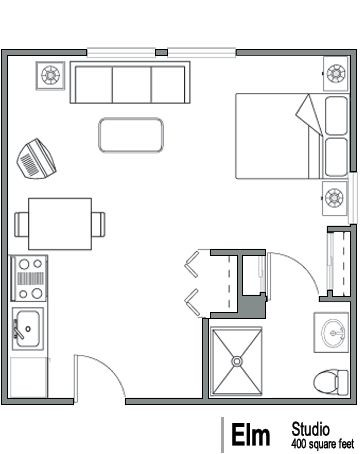door: (65, 350, 126, 401), (268, 249, 320, 296)
room: (5, 201, 206, 407), (3, 51, 205, 202), (201, 49, 354, 228), (206, 246, 353, 408)
wall: (1, 48, 9, 406), (349, 224, 359, 404), (126, 397, 357, 404), (236, 47, 358, 57), (350, 49, 358, 173), (1, 395, 75, 407), (1, 49, 89, 58), (208, 247, 268, 260), (235, 248, 246, 318), (319, 292, 360, 301), (329, 227, 358, 232)
window: (165, 46, 238, 59), (88, 46, 156, 58), (347, 170, 359, 232)
